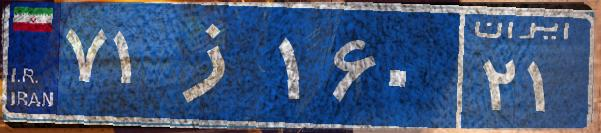0: (385, 28, 445, 110)
1: (273, 28, 330, 110), (110, 28, 158, 105), (525, 38, 570, 115)
2: (475, 38, 525, 113)
6: (330, 28, 385, 110)
7: (57, 26, 110, 107)
ز: (158, 15, 273, 115)
